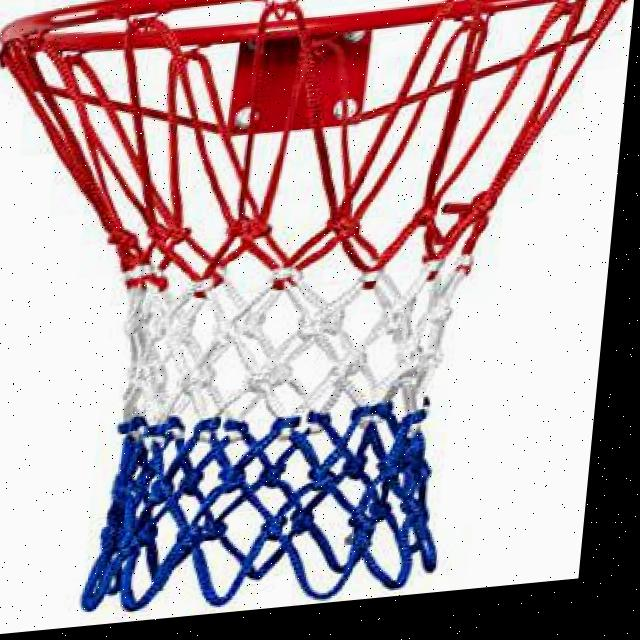hoop: (0, 0, 639, 636)
